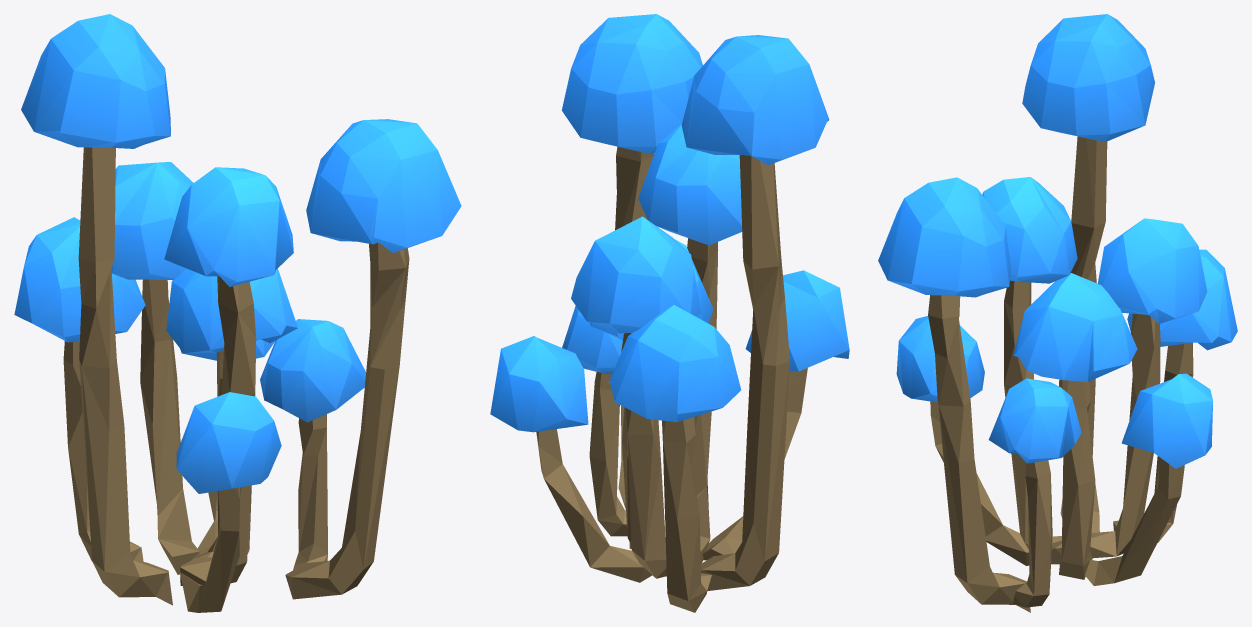
The model's file is bog_mushrooms.gltf.
3 renders of one model, left to right at view 1: azimuth 30°, elevation 25°; view 2: azimuth 150°, elevation 25°; view 3: azimuth 270°, elevation 25°, orthographic. The views are drawn at different scales.
Visible parts, largest first — view 1: bog_mushrooms; view 2: bog_mushrooms; view 3: bog_mushrooms.
Part boxes in pixels (<box>): bog_mushrooms: <box>14,14,461,612</box>; bog_mushrooms: <box>490,14,849,612</box>; bog_mushrooms: <box>878,14,1237,612</box>.
Bounding box in the file's own units: 1.02 × 1.73 × 1.08.
1 material, 1 textured.
